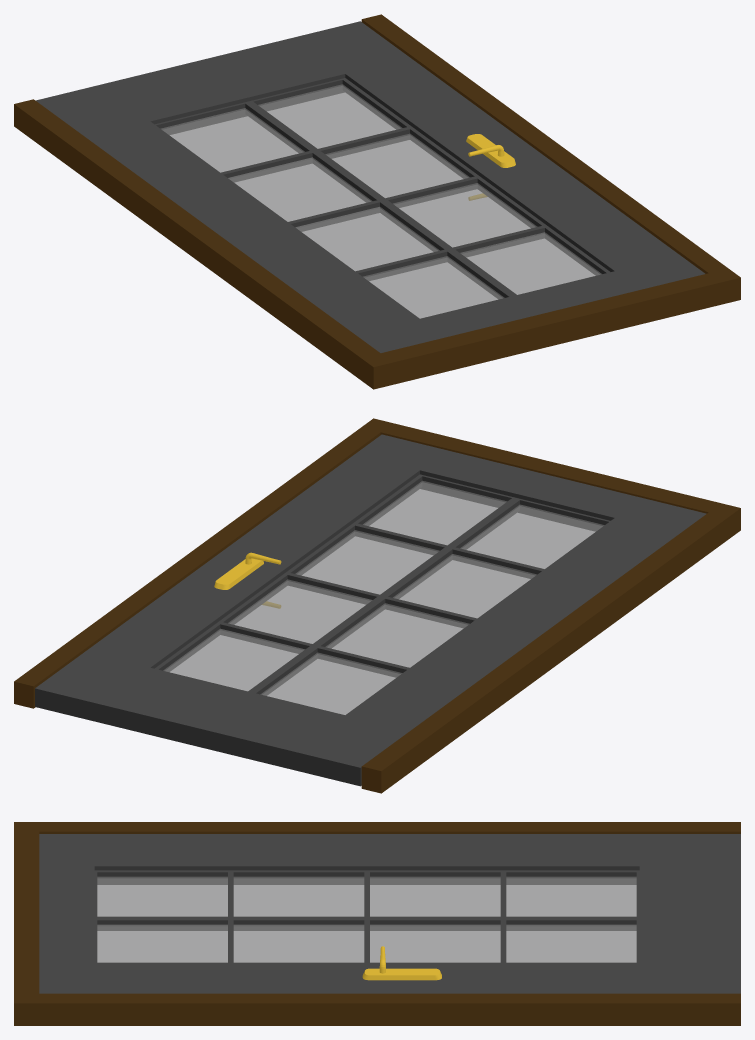
Rendered from EnkeleDeur.dae.
3 renders of one model, top to bottom at view 1: azimuth 30°, elevation 25°; view 2: azimuth 150°, elevation 25°; view 3: azimuth 270°, elevation 25°, orthographic.
Parts seen in each view (by area): view 1: door, glass, ram, lock; view 2: door, glass, ram, lock; view 3: door, glass, ram, lock.
Boxes of the visible parts, <box> form: door: <box>35,21,705,352</box>; glass: <box>161,84,601,318</box>; ram: <box>14,14,740,389</box>; lock: <box>466,134,515,200</box>; door: <box>35,434,706,786</box>; glass: <box>163,481,604,714</box>; ram: <box>14,418,740,793</box>; lock: <box>214,552,281,608</box>; door: <box>39,834,740,993</box>; glass: <box>97,876,636,962</box>; ram: <box>14,822,740,1025</box>; lock: <box>362,946,441,980</box>.
Bounding box in the file's own units: 122 × 15.65 × 206.
